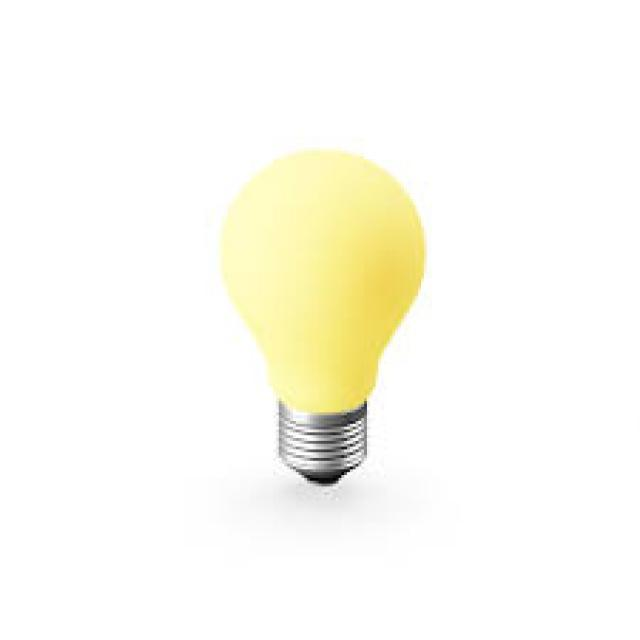bulb_off: (215, 142, 432, 492)
